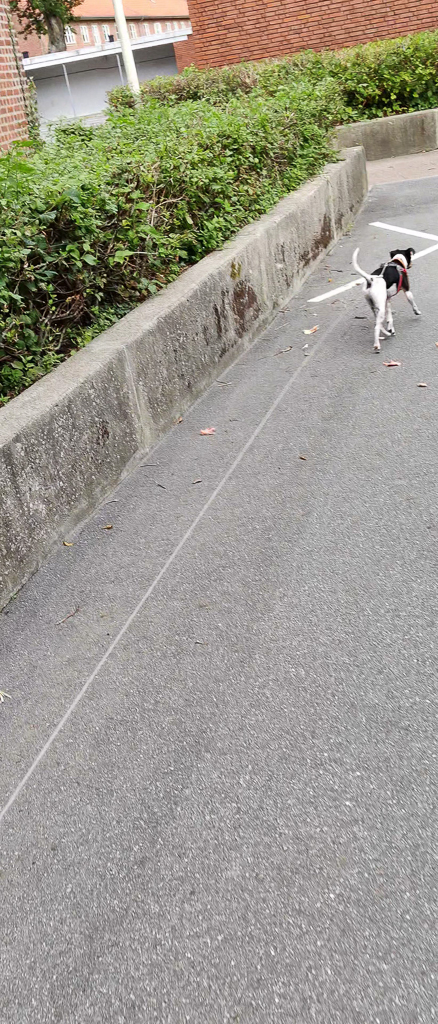Dog: (345, 241, 431, 356)
